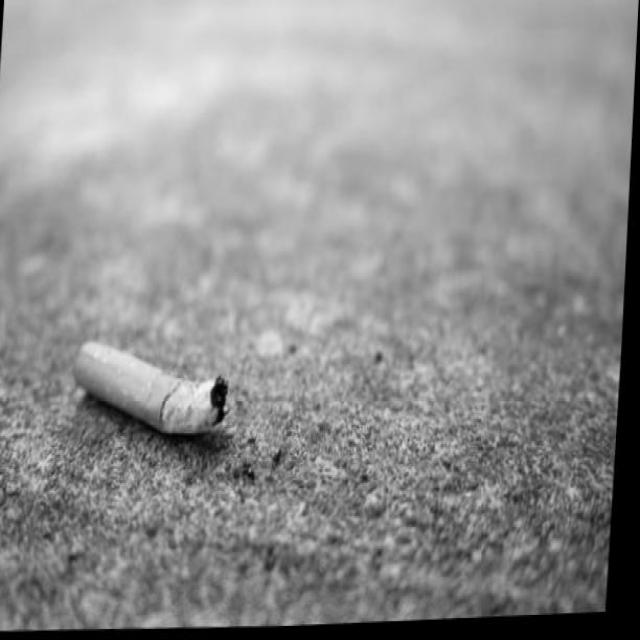cigarette: (75, 326, 238, 446)
